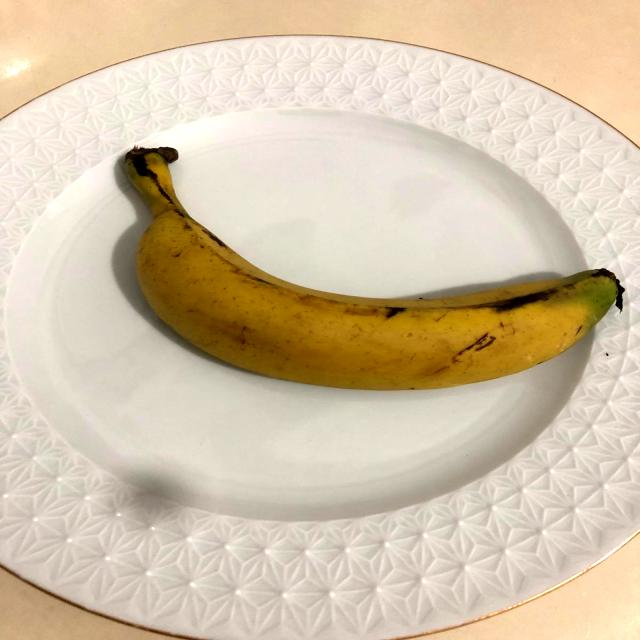banana: (104, 125, 629, 410)
